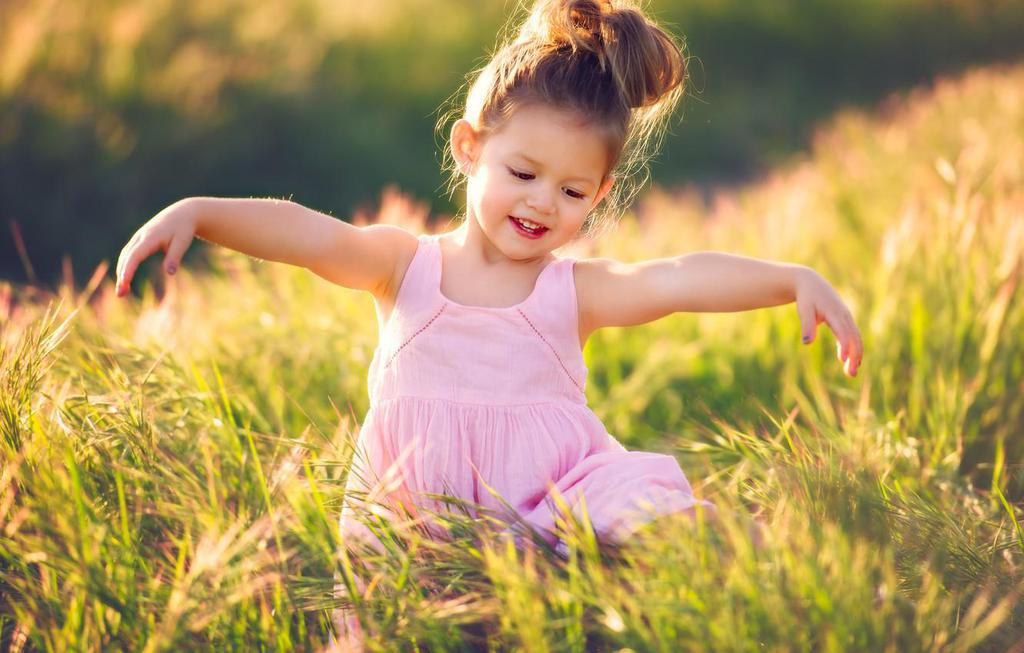child: (104, 1, 871, 653)
